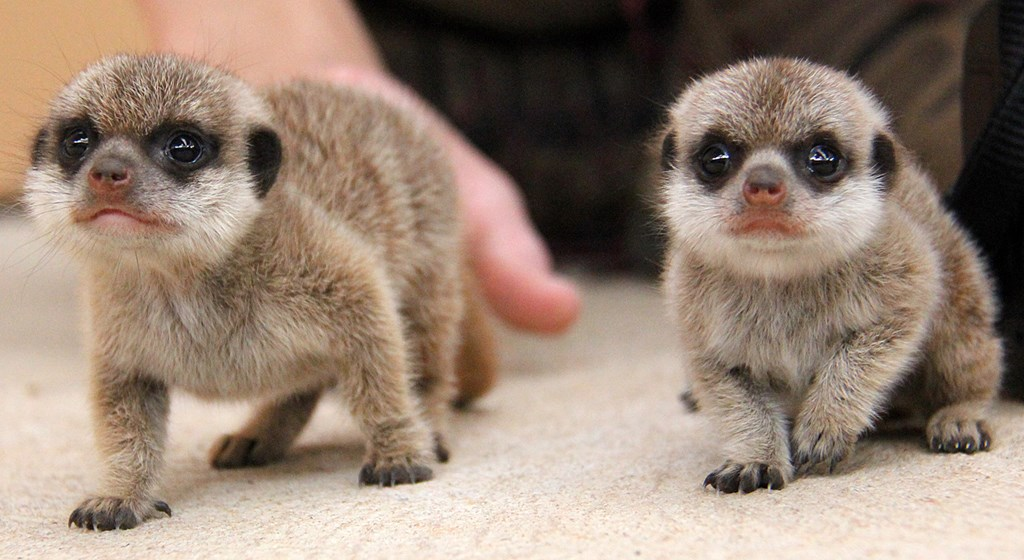meerkat: (28, 26, 530, 510), (641, 33, 1024, 509)
